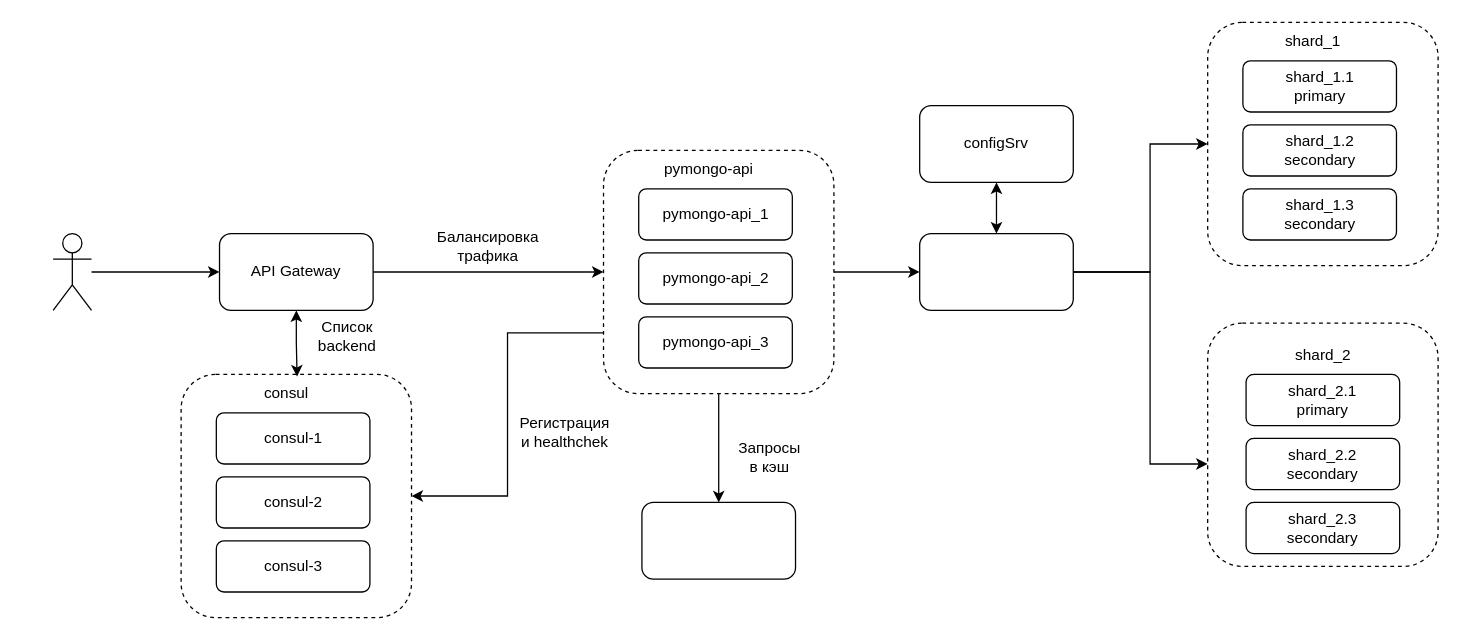
This 1460x640 diagram has some shape labels left out. The shapes that lost their labels are listed below. From the top down, each one's box as (x1, y1, x2, y2) in pixels, then its label:
(52, 232, 92, 310): Пользователь
(918, 232, 1073, 310): mongos_router
(641, 501, 796, 579): redis
